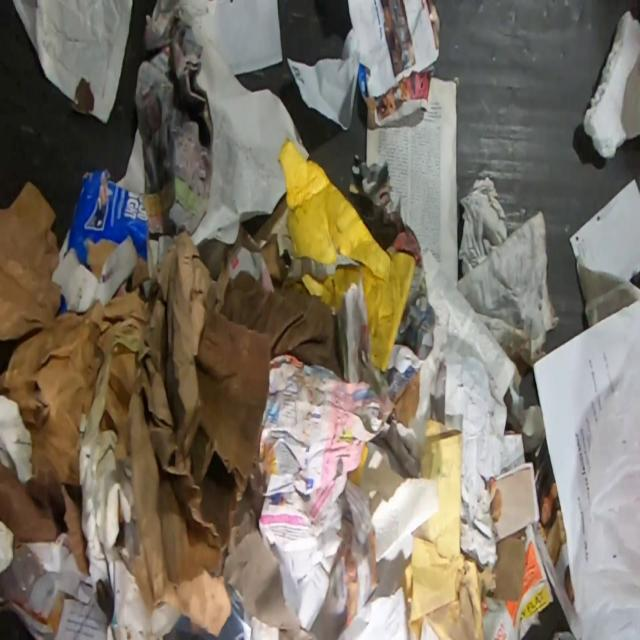cardboard: (51, 169, 149, 315), (387, 363, 420, 429)
rigid_plastic: (0, 543, 48, 607)
soft_plastic: (580, 343, 639, 640)
